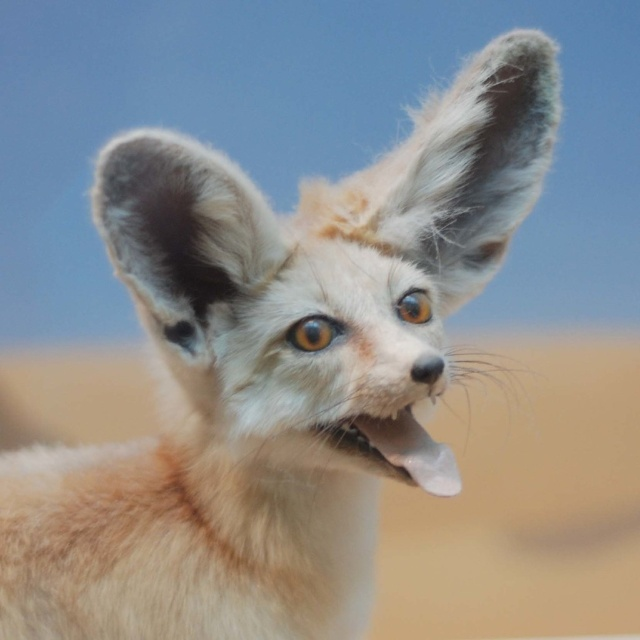Fox: (0, 25, 566, 640)
